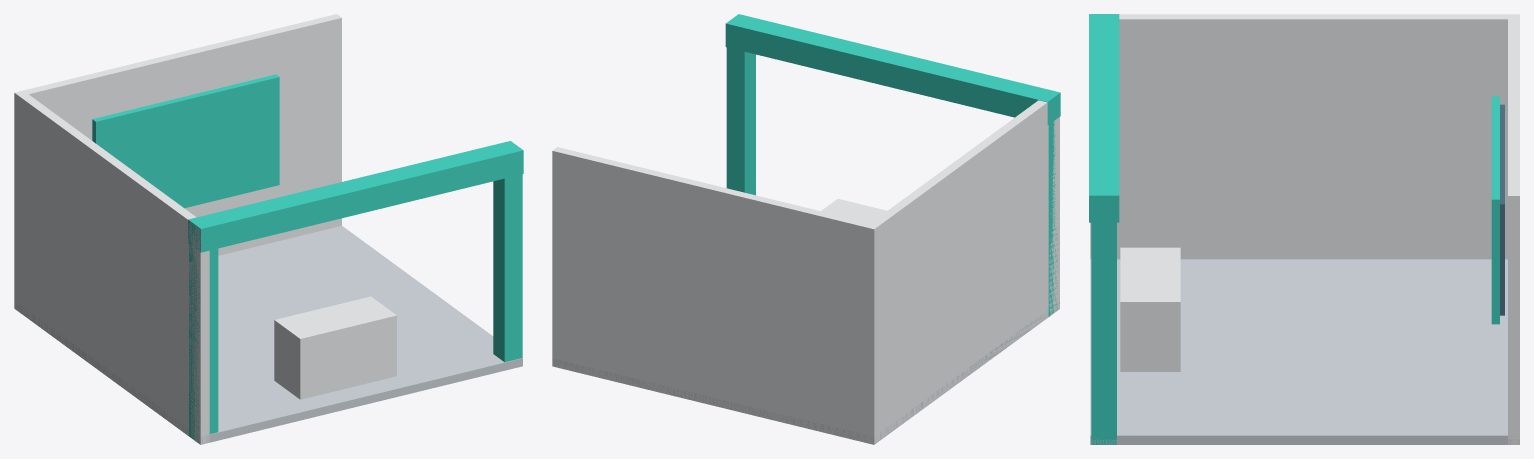
The picture shows the model from 3 angles, left to right: view 1: azimuth 30°, elevation 25°; view 2: azimuth 150°, elevation 25°; view 3: azimuth 270°, elevation 25°; orthographic projection. The views are drawn at different scales.
Parts seen in each view (by area): view 1: Exhibition Booth Concept; view 2: Exhibition Booth Concept; view 3: Exhibition Booth Concept.
Part boxes in pixels (x1,y1,x2,y2): Exhibition Booth Concept: [14, 14, 523, 444]; Exhibition Booth Concept: [552, 14, 1060, 444]; Exhibition Booth Concept: [1089, 14, 1519, 444].
Size of the model in its own units: 5 by 3.2 by 5.02.
